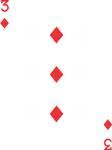three of dimaonds: (1, 1, 108, 150)
